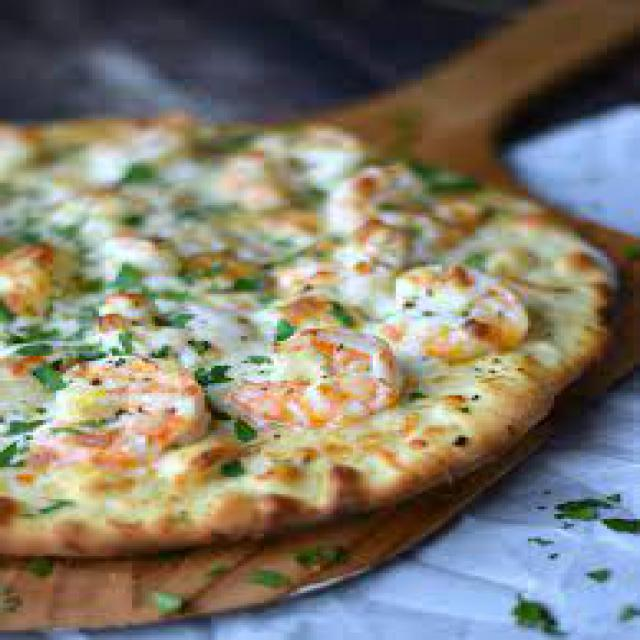camarao: (232, 323, 400, 433), (52, 353, 204, 465), (392, 277, 538, 357)
pizza: (0, 116, 619, 562)
